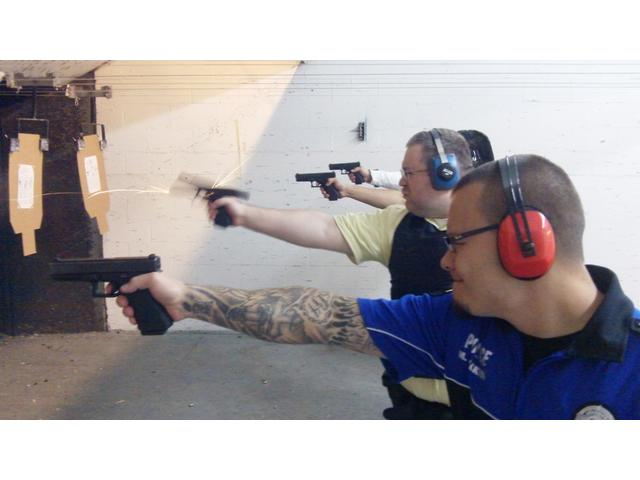pistol: (45, 253, 173, 338), (171, 180, 251, 232), (294, 172, 341, 204), (328, 160, 365, 188)
